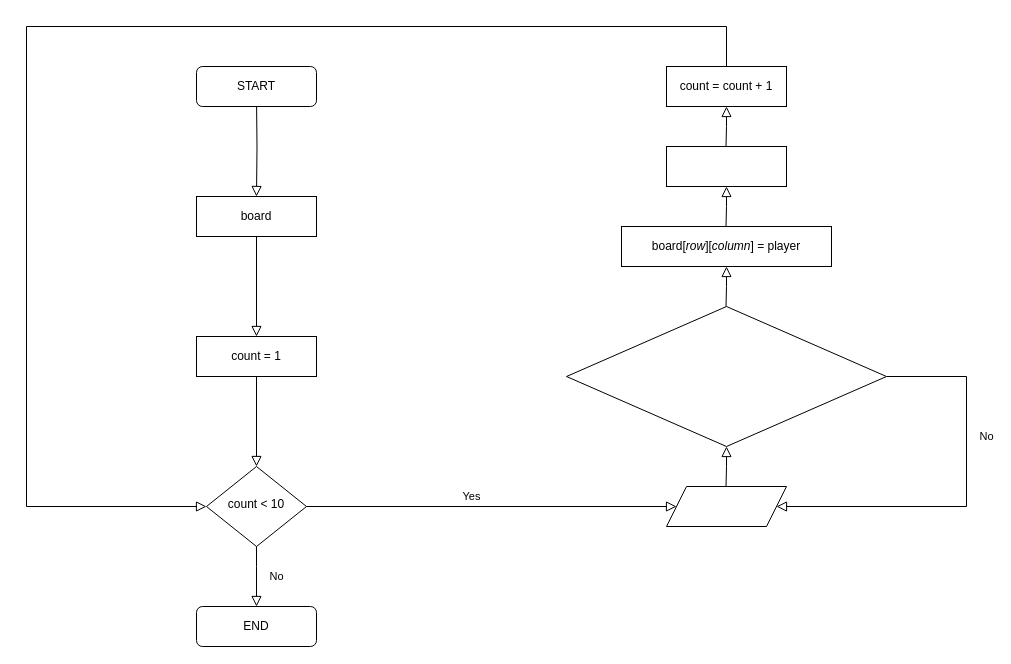
This 1011x664 diagram has some shape labels left out. Each missing label, with the centre of its shape:
row in [0, 1, 2] column in [0, 1, 2] board[ row ][ column ] not in ["X", "O"]: the point at 726,376
row, column: the point at 726,506
show current board: the point at 726,166
